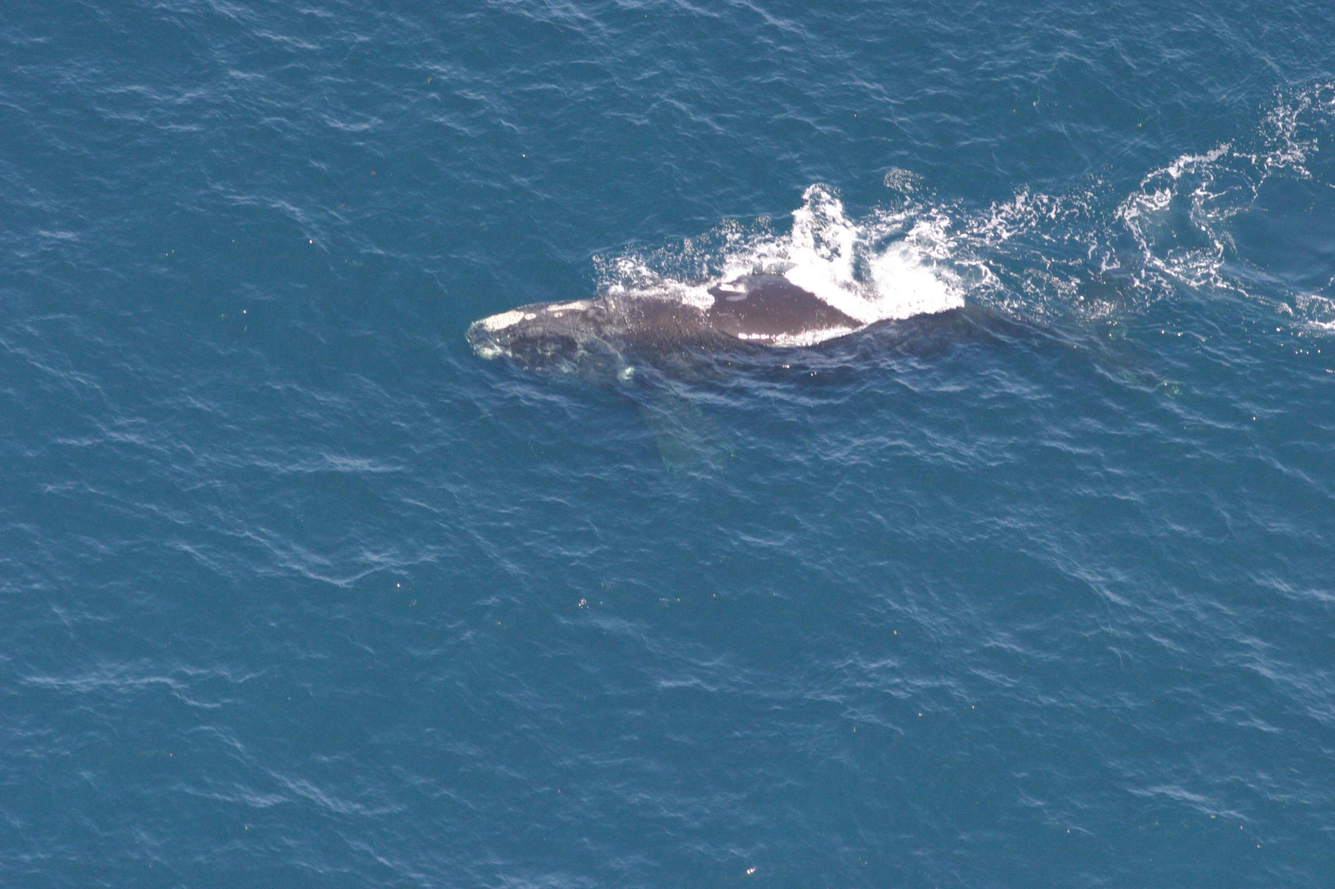whale: (456, 253, 1194, 484)
